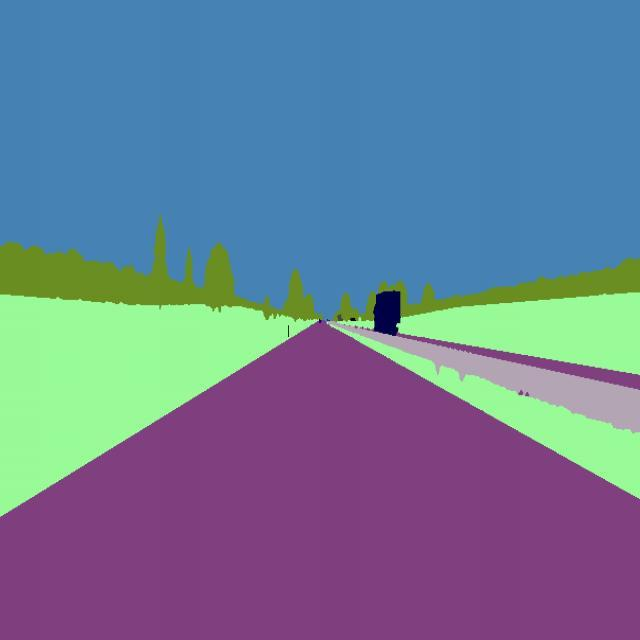safe: (372, 290, 403, 340)
